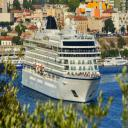cruises: (21, 16, 104, 105)
